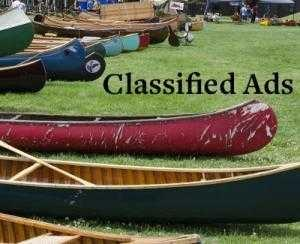kayak: (3, 99, 275, 157), (33, 7, 180, 43)
